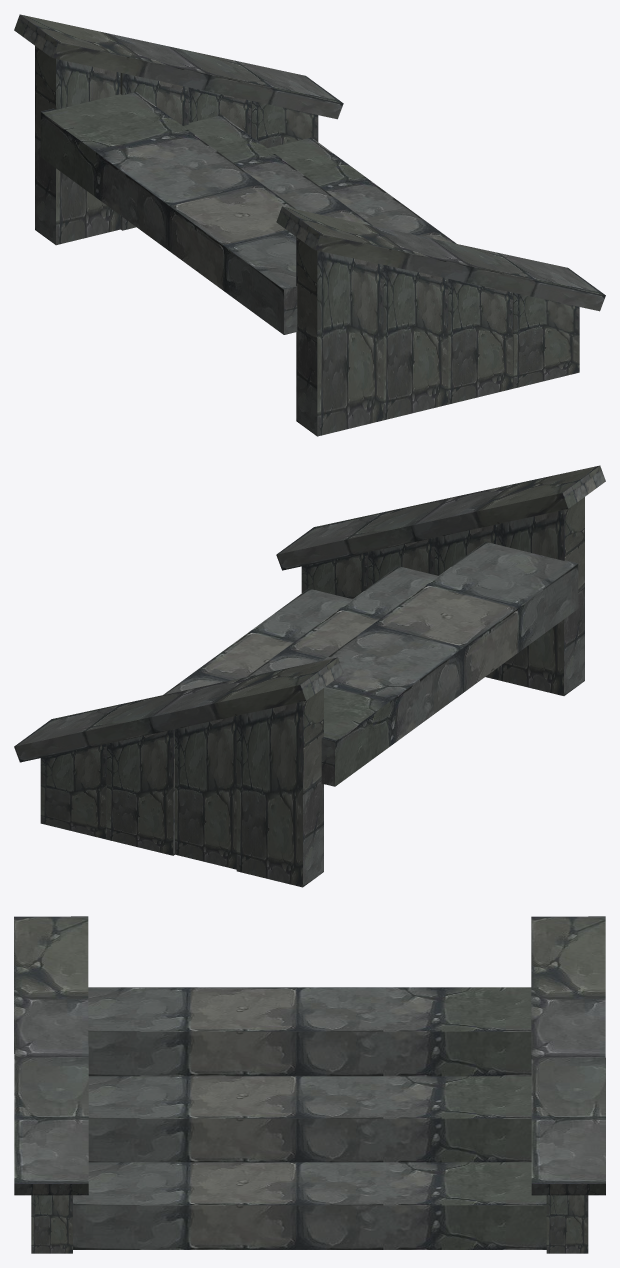
Rendered from Stairup extention.fbx.
3 views of the same model, one above another, from view 1: azimuth 30°, elevation 25°; view 2: azimuth 150°, elevation 25°; view 3: azimuth 270°, elevation 25° (orthographic).
Visible parts, largest first — view 1: Cube.1374; view 2: Cube.1374; view 3: Cube.1374.
Part boxes in pixels (<box>): Cube.1374: <box>14,14,605,436</box>; Cube.1374: <box>14,465,605,887</box>; Cube.1374: <box>14,916,605,1253</box>.
Size of the model in its own units: 2.19 by 1.5 by 3.88.
3 materials, 3 textured.
